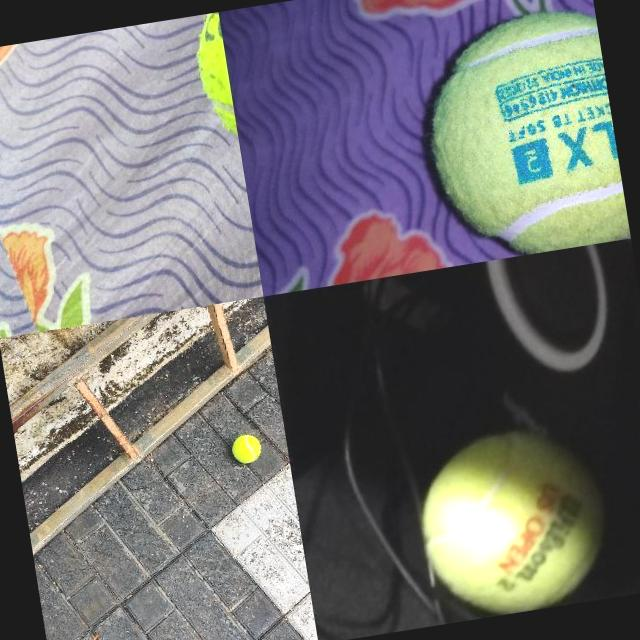Tennis Ball: (414, 2, 630, 266), (409, 417, 618, 624), (230, 433, 264, 466)
